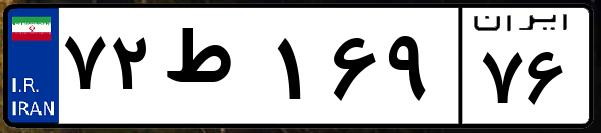1: (270, 28, 330, 110)
2: (110, 28, 158, 98)
6: (330, 28, 385, 110), (525, 38, 570, 115)
7: (57, 26, 110, 100), (475, 38, 525, 113)
9: (385, 28, 445, 110)
ط: (158, 20, 270, 120)
